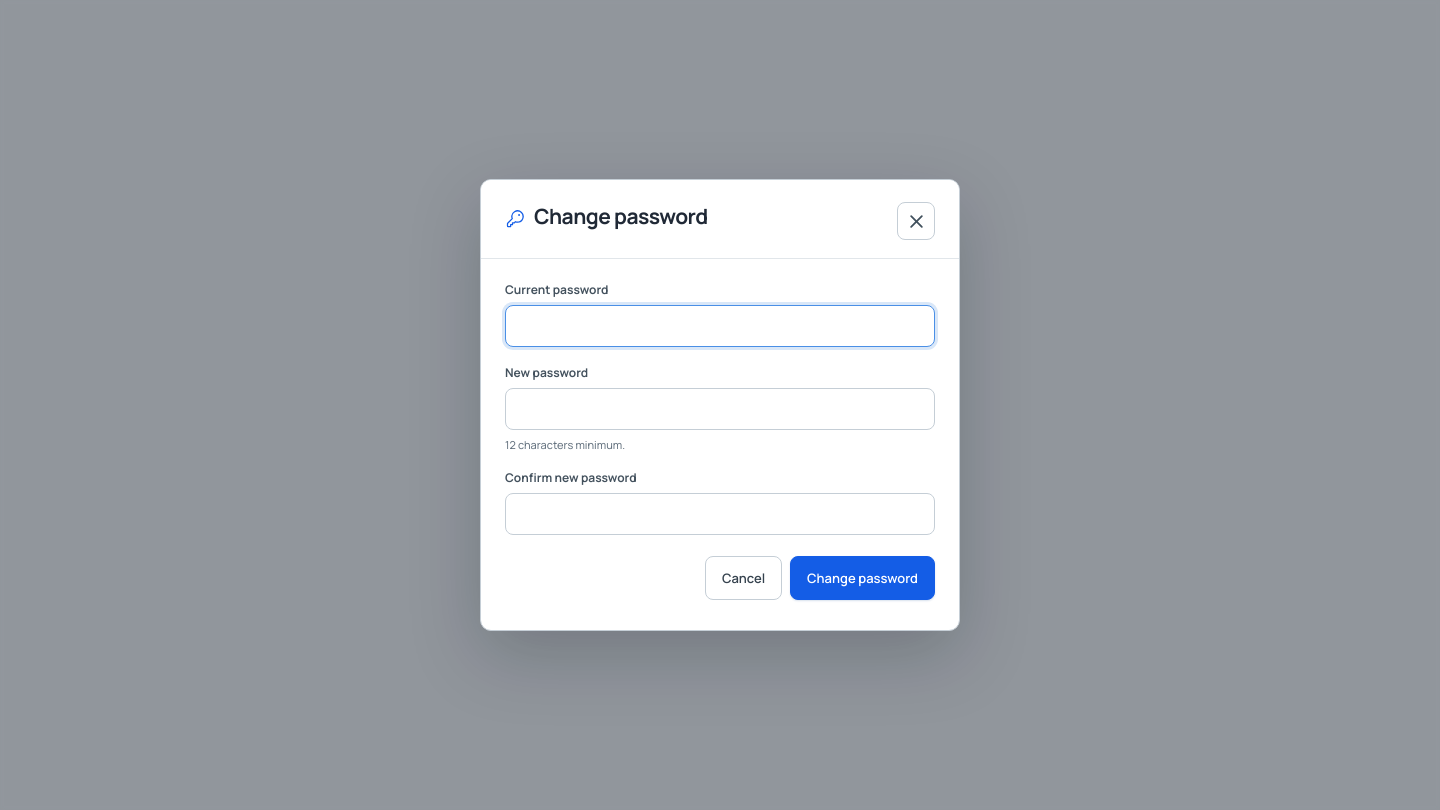
change password dialog › requires matching new passwords
This screenshot has width=1440, height=810.
Type "original-password-123" into the password field labelled "Current password".
click(720, 326); type("original-password-123")  # box x1=505 y1=305 x2=935 y2=347
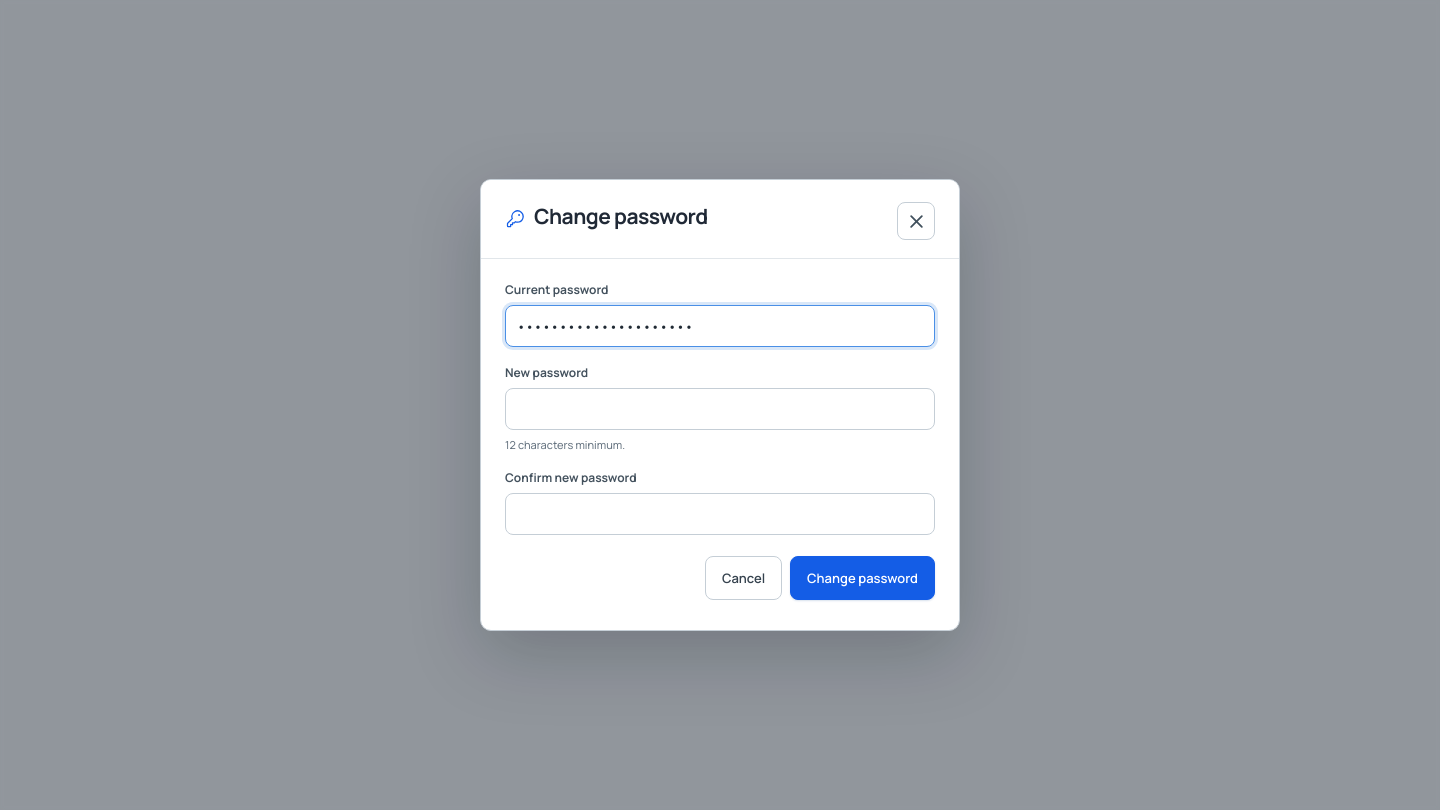
Type "replacement-password-123" into the password field labelled "New password 12 characters minimum.".
click(720, 409); type("replacement-password-123")  # box x1=505 y1=388 x2=935 y2=430
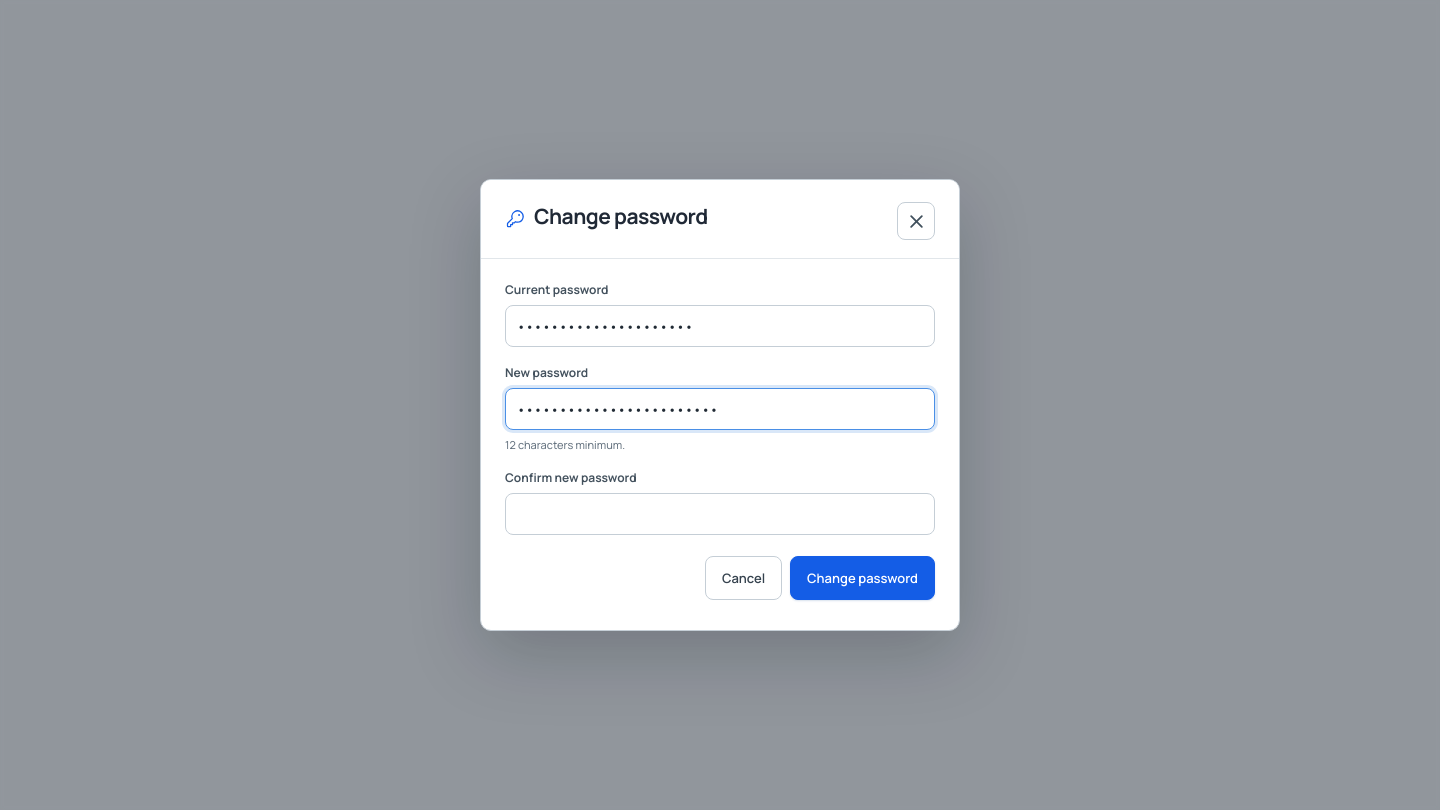
Type "different-password-123" into the password field labelled "Confirm new password".
click(720, 514); type("different-password-123")  # box x1=505 y1=493 x2=935 y2=535
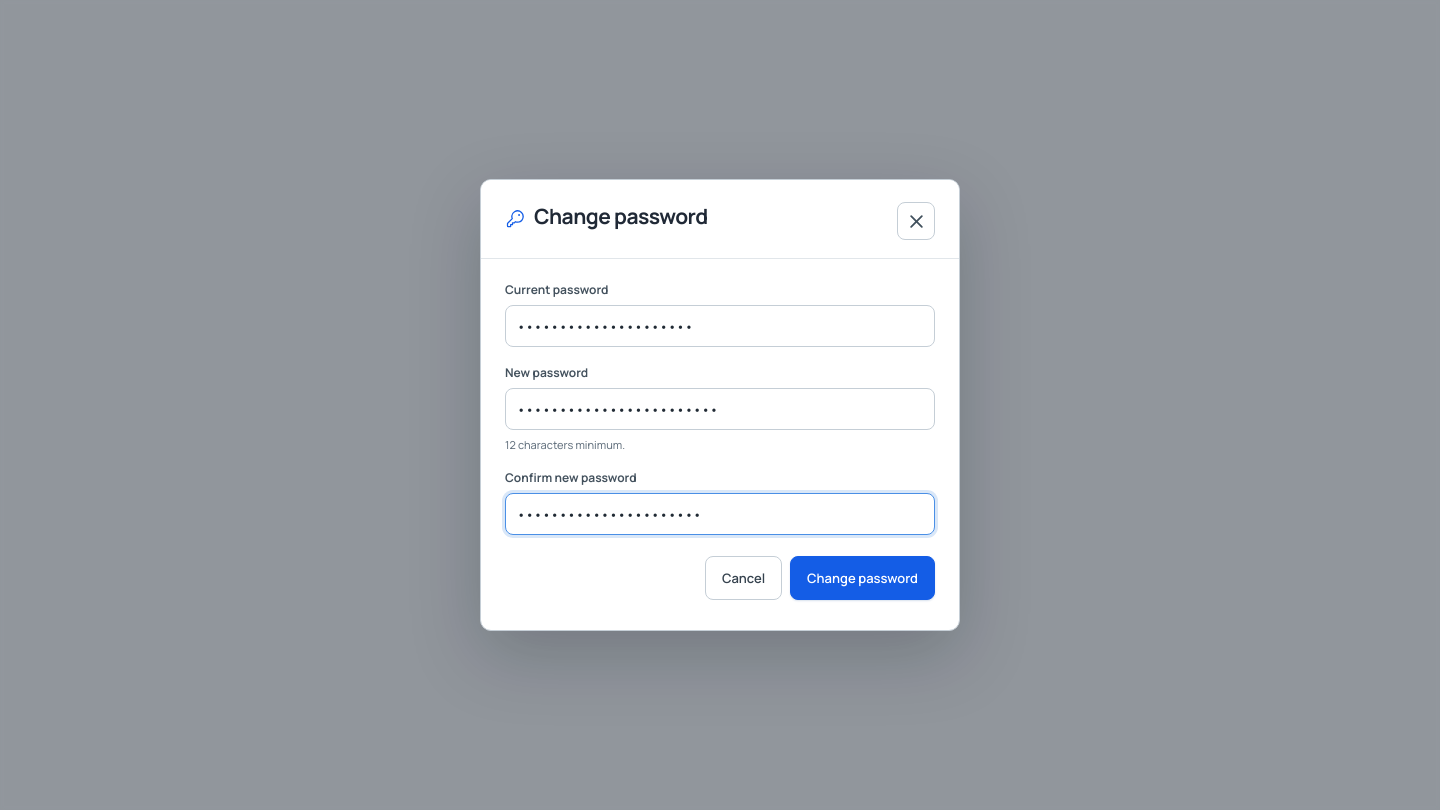
Click the button "Change password".
click(863, 578)  # box x1=790 y1=556 x2=935 y2=600
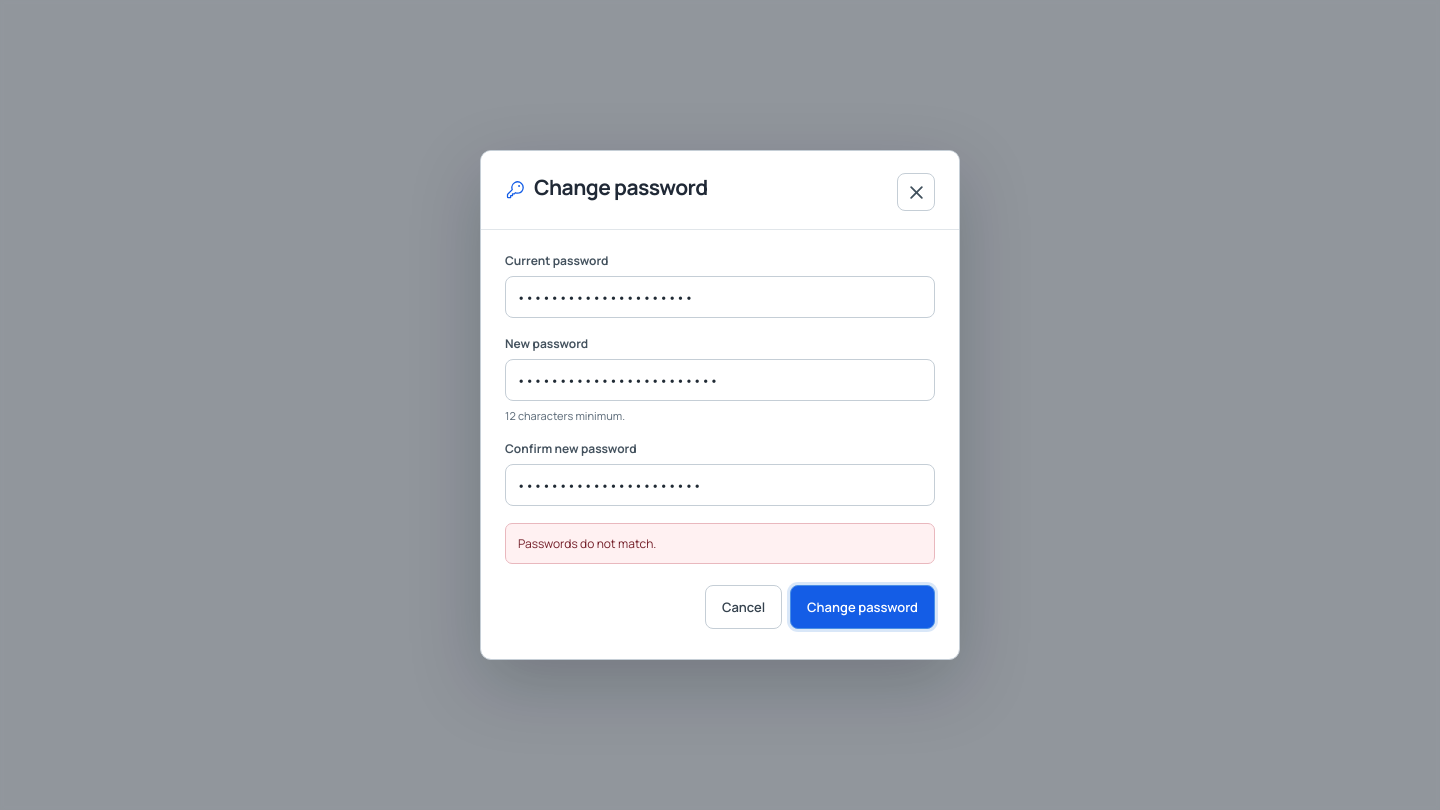
Now the message reads "Passwords do not match.", box x1=518 y1=535 x2=656 y2=552
